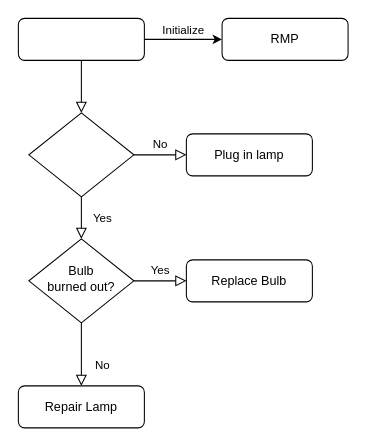
Image size: 366x446. Some labels were removed from this diagram. The shapes that lost their labels are listed below. From the top down, each one's box as (x1, y1, x2, y2) in pixels, then its label:
(17, 17, 144, 60): Problem
(28, 112, 134, 197): Lamp plugged in?
